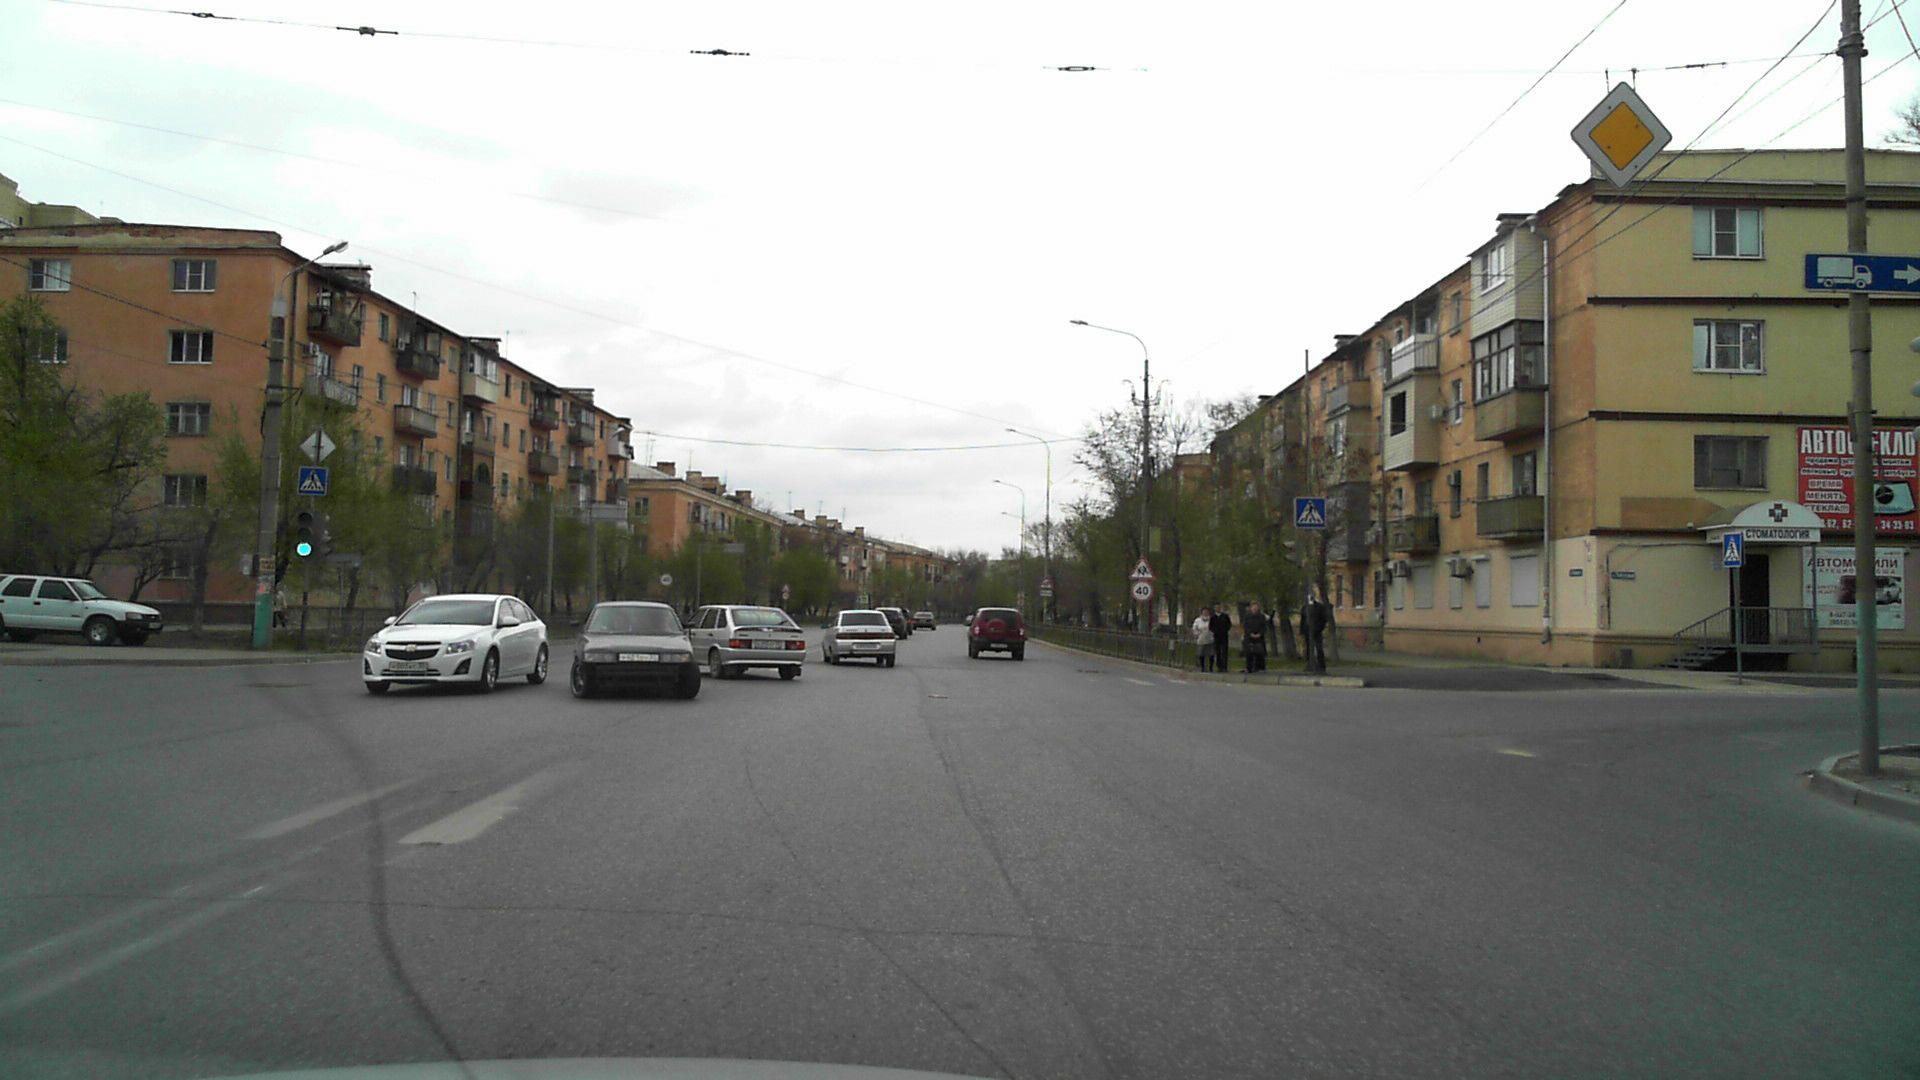1_23: (1129, 555, 1155, 582), (1038, 576, 1054, 589)
2_1: (1565, 71, 1676, 191)
3_24: (1131, 580, 1153, 600), (659, 572, 673, 587)
5_19_1: (1294, 495, 1327, 530)
5_19_2: (299, 463, 327, 497), (1722, 537, 1746, 567)
6_15_2: (1807, 251, 1919, 295)
8_5_4: (1039, 589, 1052, 597)
